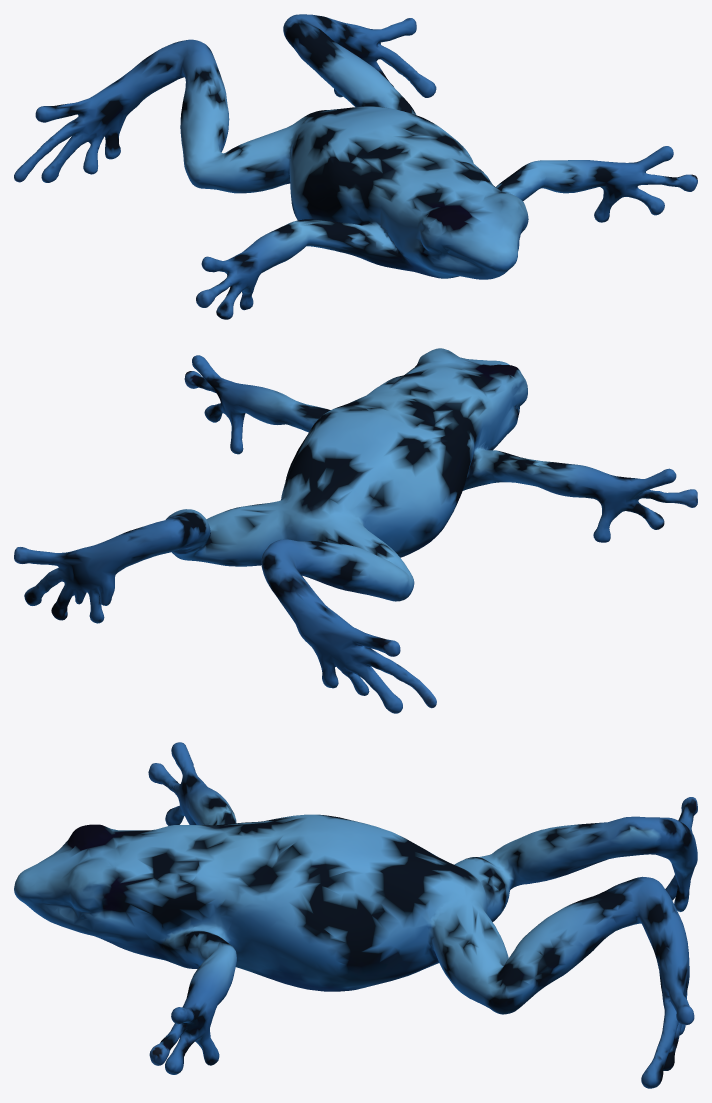
The model's file is dartfrog-sky_spotted.swim.glb.
The picture shows the model from 3 angles, top to bottom: view 1: azimuth 30°, elevation 25°; view 2: azimuth 150°, elevation 25°; view 3: azimuth 270°, elevation 25°; orthographic projection. The views are drawn at different scales.
Parts seen in each view (by area): view 1: dartfrog:sky_spotted.swim; view 2: dartfrog:sky_spotted.swim; view 3: dartfrog:sky_spotted.swim.
Part boxes in pixels (<box>): dartfrog:sky_spotted.swim: <box>14,14,697,319</box>; dartfrog:sky_spotted.swim: <box>14,348,697,713</box>; dartfrog:sky_spotted.swim: <box>14,742,697,1088</box>.
Bounding box in the file's own units: 0.0612 × 0.0153 × 0.0616.
